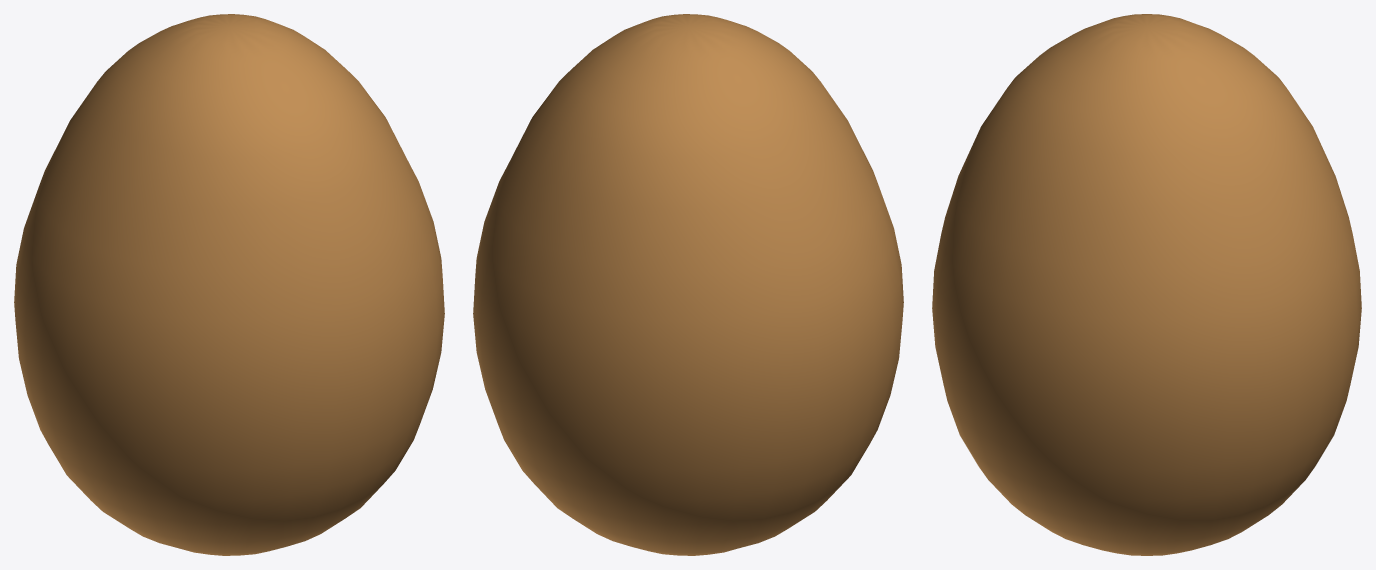
File: egg_uni.fbx
3 views of the same model, side by side, from view 1: azimuth 30°, elevation 25°; view 2: azimuth 150°, elevation 25°; view 3: azimuth 270°, elevation 25° (orthographic).
Visible parts, largest first — view 1: Sphere.001; view 2: Sphere.001; view 3: Sphere.001.
Boxes of the visible parts, x1,y1,x2,y2 form: Sphere.001: [14, 14, 444, 555]; Sphere.001: [473, 14, 903, 555]; Sphere.001: [932, 14, 1361, 555].
Bounding box in the file's own units: 894 × 1162 × 889.
